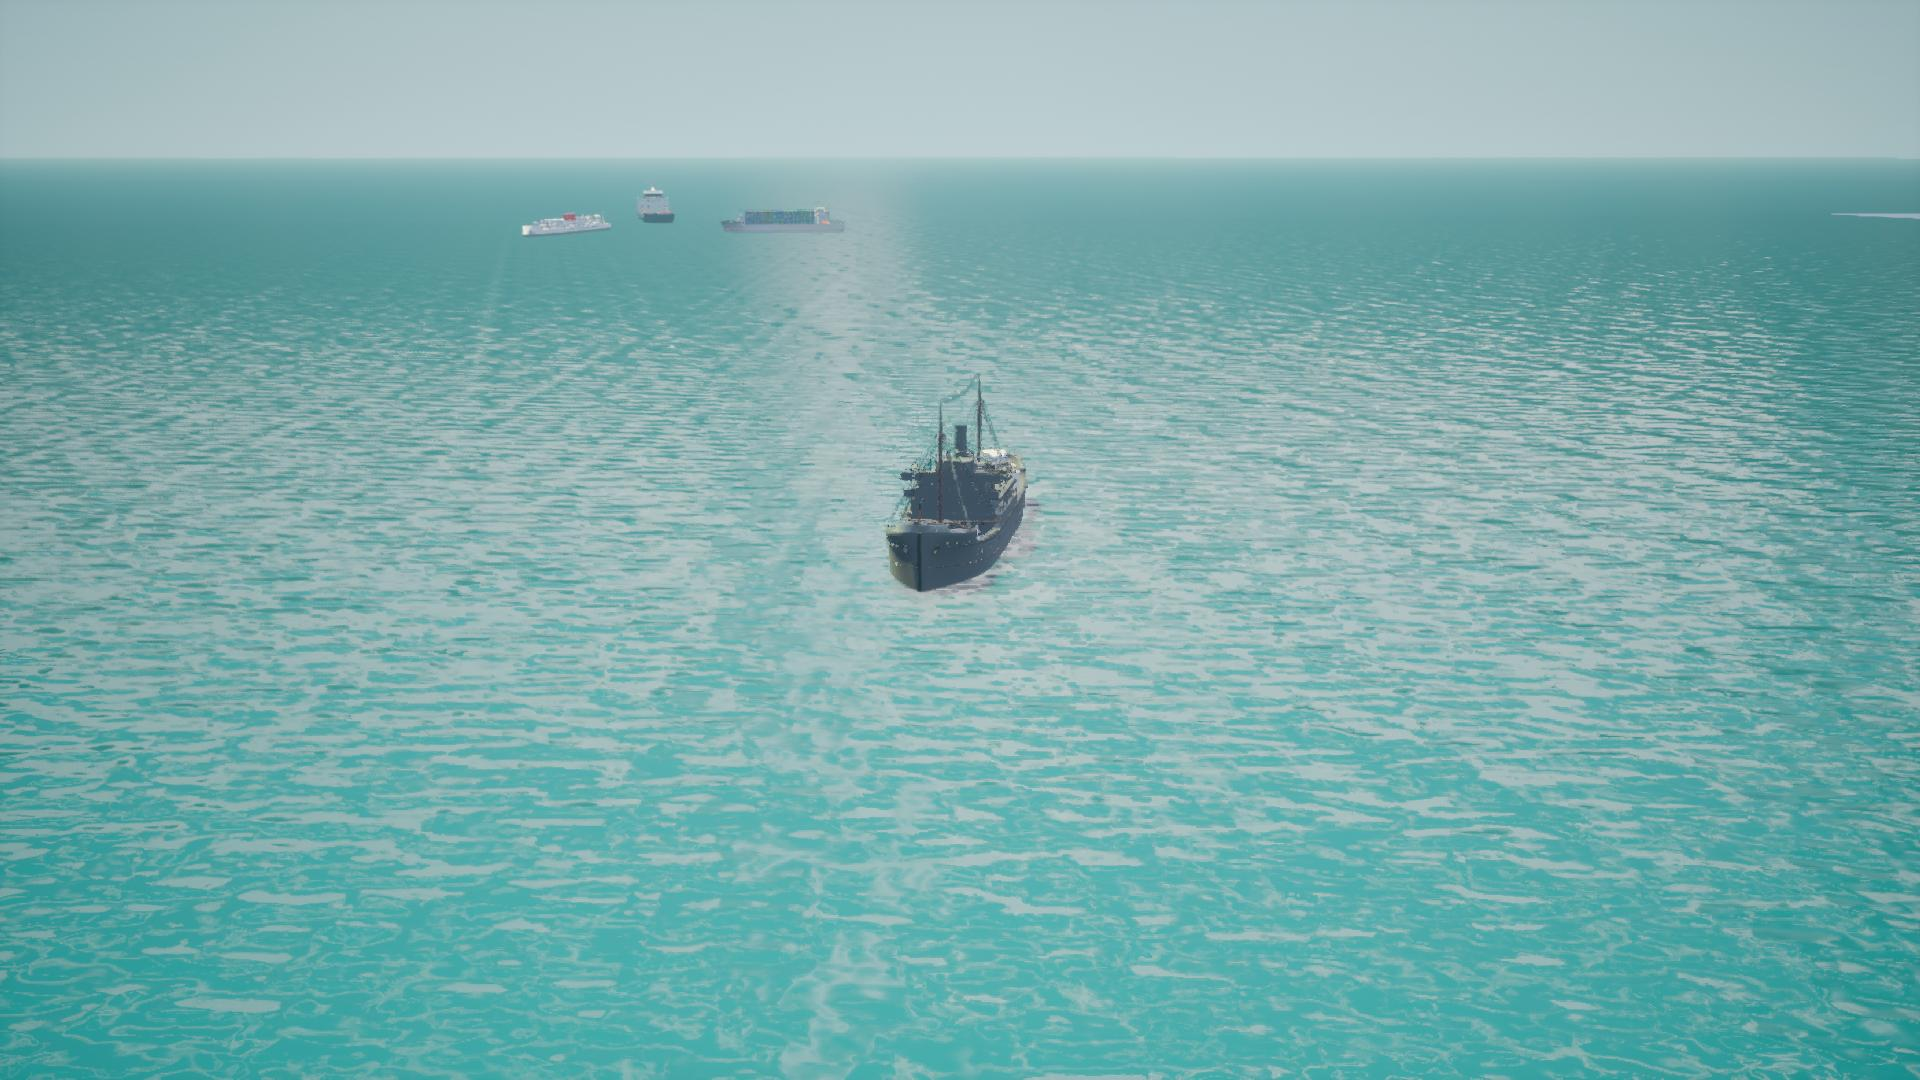Fishing Boat: (886, 378, 1027, 595), (719, 204, 845, 235), (521, 212, 622, 239), (642, 187, 678, 224)
